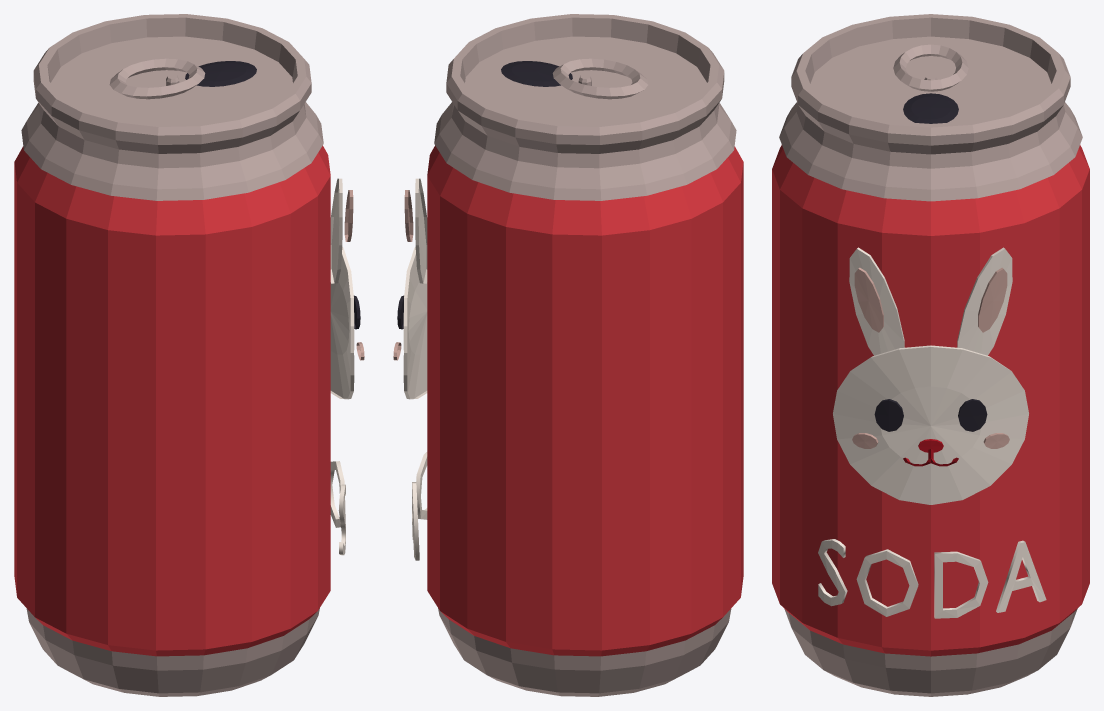
The model's file is pick.soda.glb.
The picture shows the model from 3 angles, left to right: view 1: azimuth 30°, elevation 25°; view 2: azimuth 150°, elevation 25°; view 3: azimuth 270°, elevation 25°; orthographic projection.
Visible parts, largest first — view 1: body, object 2; view 2: body, object 2; view 3: body, object 2.
Part boxes in pixels (x1=…): body: x1=14, y1=145, x2=330, y2=656; object 2: x1=21, y1=14, x2=364, y2=696; body: x1=427, y1=145, x2=743, y2=656; object 2: x1=393, y1=14, x2=736, y2=696; body: x1=772, y1=145, x2=1089, y2=656; object 2: x1=779, y1=14, x2=1082, y2=696.
Size of the model in its own units: 0.1014 by 0.1823 by 0.091.
